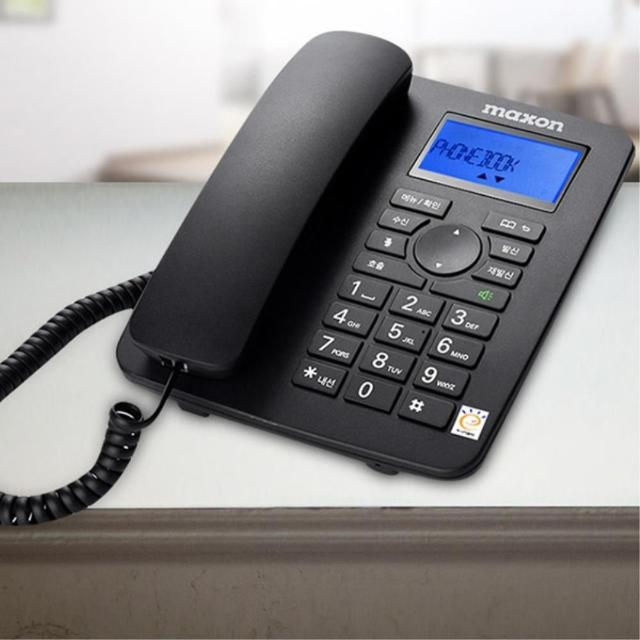Telephone-Set: (115, 29, 637, 483)
